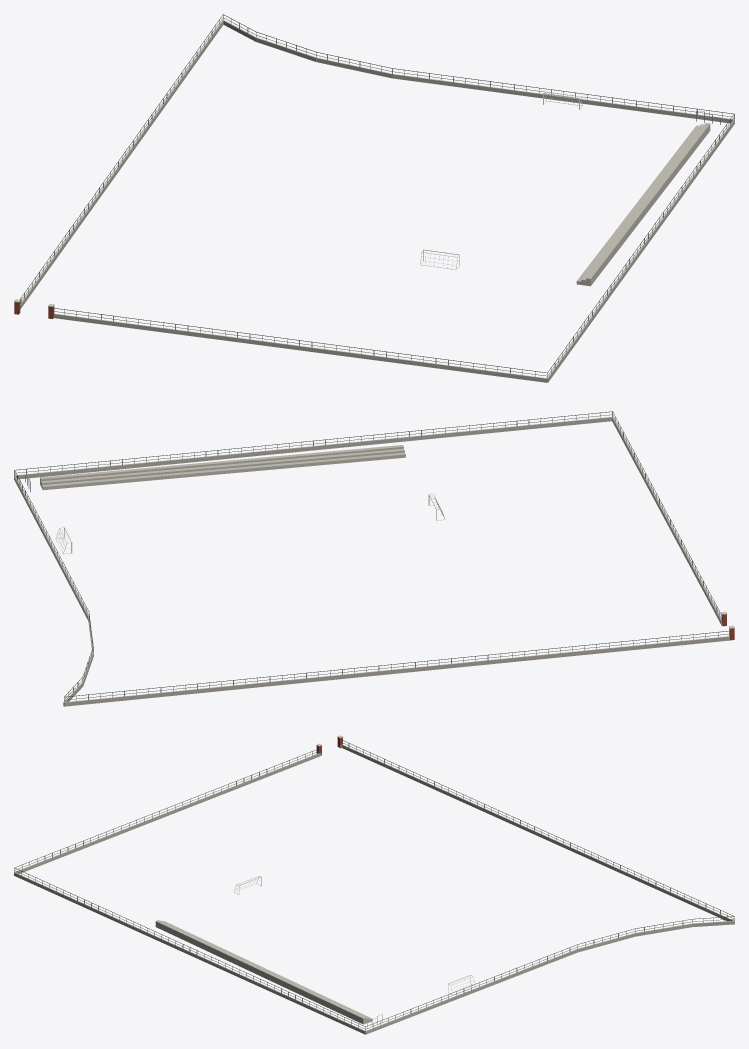
3 views of the same model, one above another, from view 1: azimuth 30°, elevation 25°; view 2: azimuth 150°, elevation 25°; view 3: azimuth 270°, elevation 25° (orthographic). The views are drawn at different scales.
Parts seen in each view (by area): view 1: site-wall-concrete, site-fence, site-stand-concrete; view 2: site-wall-concrete, site-stand-concrete, site-fence; view 3: site-wall-concrete, site-fence, site-stand-concrete.
Part boxes in pixels (bbox=[...]): site-wall-concrete: bbox=[20, 20, 734, 382]; site-fence: bbox=[20, 14, 734, 378]; site-stand-concrete: bbox=[576, 123, 710, 286]; site-wall-concrete: bbox=[14, 417, 729, 706]; site-stand-concrete: bbox=[40, 445, 405, 490]; site-fence: bbox=[14, 411, 729, 702]; site-wall-concrete: bbox=[14, 744, 734, 1034]; site-fence: bbox=[14, 740, 734, 1031]; site-stand-concrete: bbox=[155, 920, 372, 1024].
Bounding box in the file's own units: 165 × 2.85 × 174.
